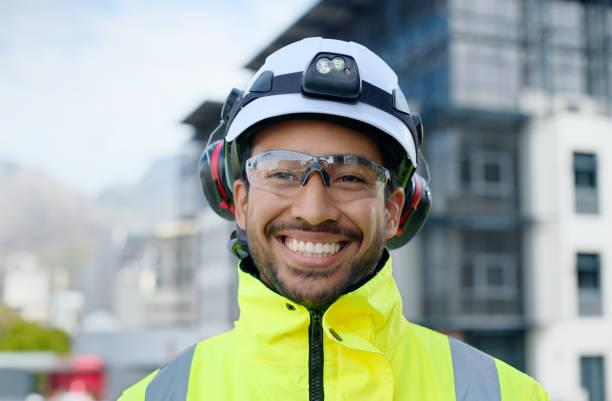goggle: (237, 144, 408, 206)
helmet: (187, 24, 438, 159)
vest: (117, 249, 560, 401)
